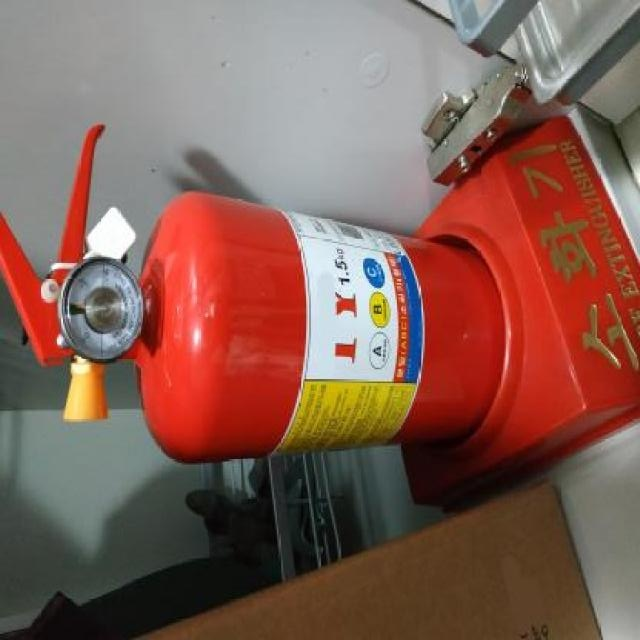fire extinguisher: (0, 123, 506, 466)
